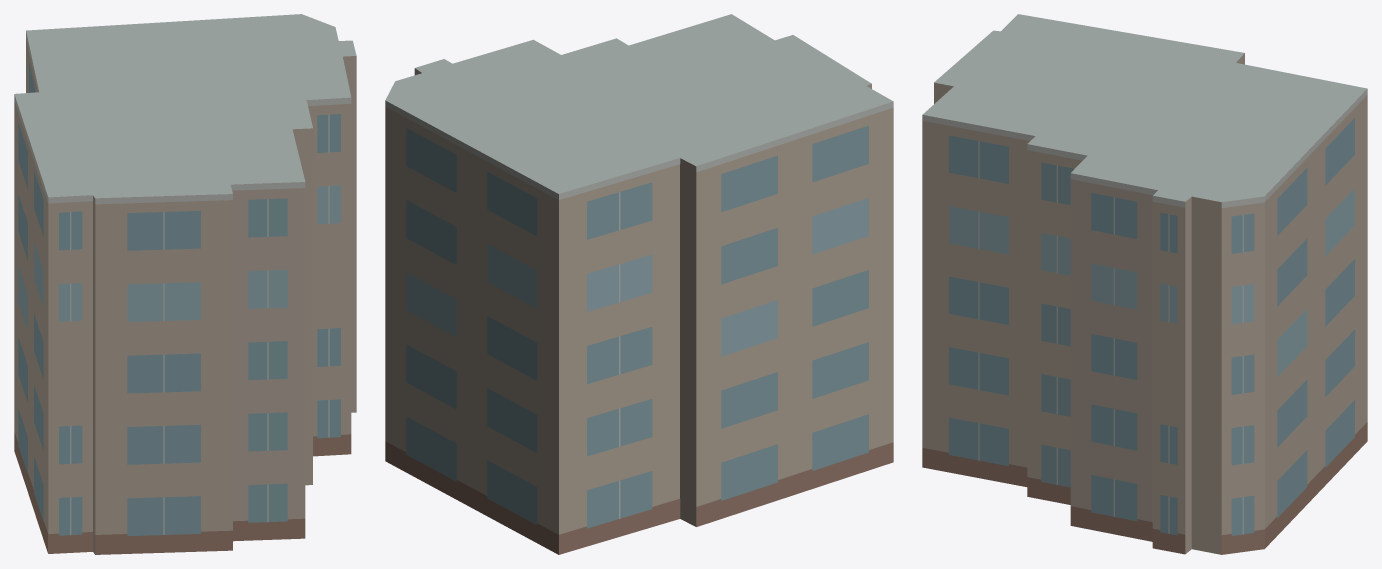
Rendered from survey-upis-32772363.glb.
3 renders of one model, left to right at view 1: azimuth 30°, elevation 25°; view 2: azimuth 150°, elevation 25°; view 3: azimuth 270°, elevation 25°, orthographic. The views are drawn at different scales.
Parts seen in each view (by area): view 1: survey-upis-32772363.tmp; view 2: survey-upis-32772363.tmp; view 3: survey-upis-32772363.tmp.
Part boxes in pixels (bbox=[...]): survey-upis-32772363.tmp: bbox=[14, 14, 356, 554]; survey-upis-32772363.tmp: bbox=[385, 14, 893, 554]; survey-upis-32772363.tmp: bbox=[922, 14, 1367, 554].
Bounding box in the file's own units: 16.43 × 14.35 × 16.43.
